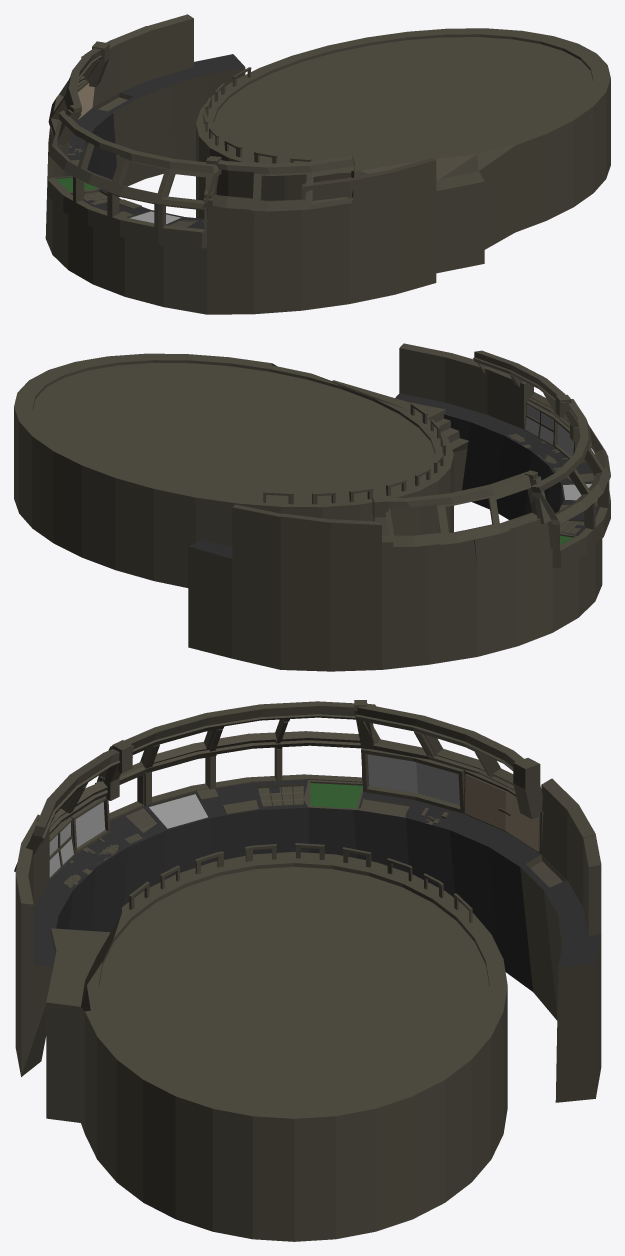
File: bridge 1.fbx
3 views of the same model, one above another, from view 1: azimuth 30°, elevation 25°; view 2: azimuth 150°, elevation 25°; view 3: azimuth 270°, elevation 25° (orthographic). The views are drawn at different scales.
Parts seen in each view (by area): view 1: Cylinder.002; view 2: Cylinder.002; view 3: Cylinder.002.
Part boxes in pixels (box(x1,y1,x2,y2)): Cylinder.002: box(45, 14, 610, 314); Cylinder.002: box(14, 343, 610, 671); Cylinder.002: box(14, 700, 601, 1241).
Size of the model in its own units: 13655 by 4112 by 9417.
